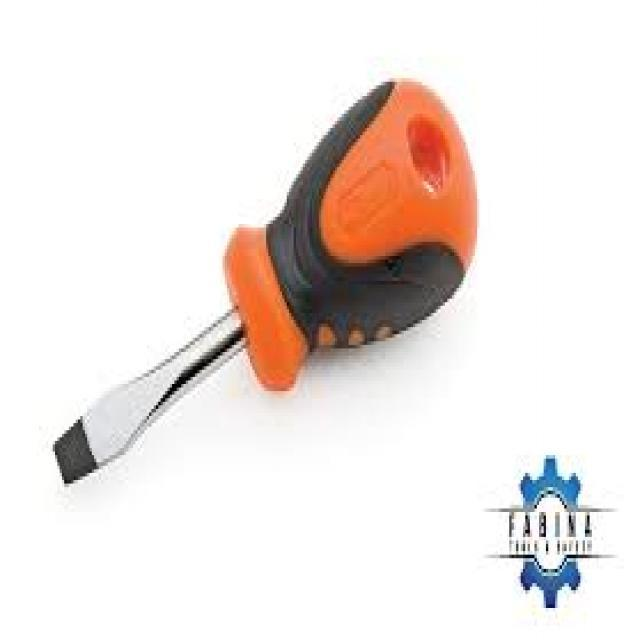screwdriver: (52, 75, 480, 488)
